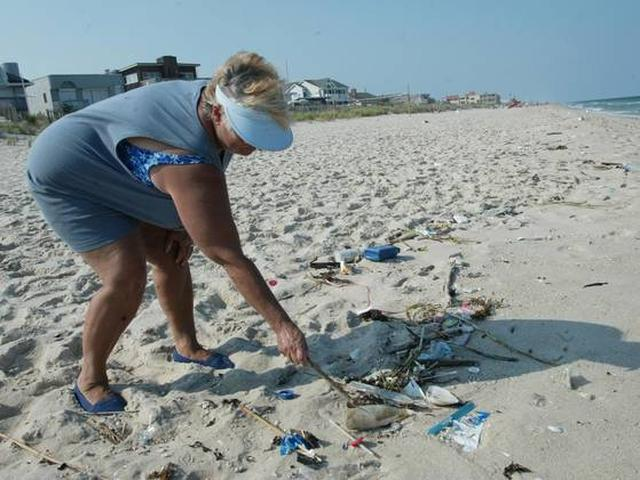garbage: (391, 321, 436, 408)
